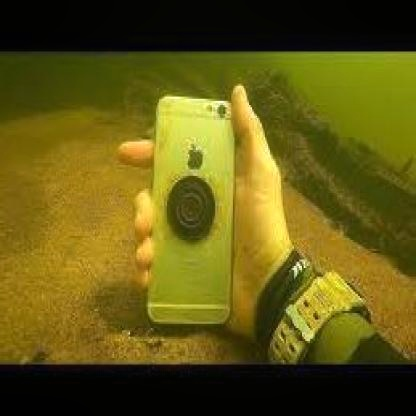cellphone: (149, 97, 236, 328)
